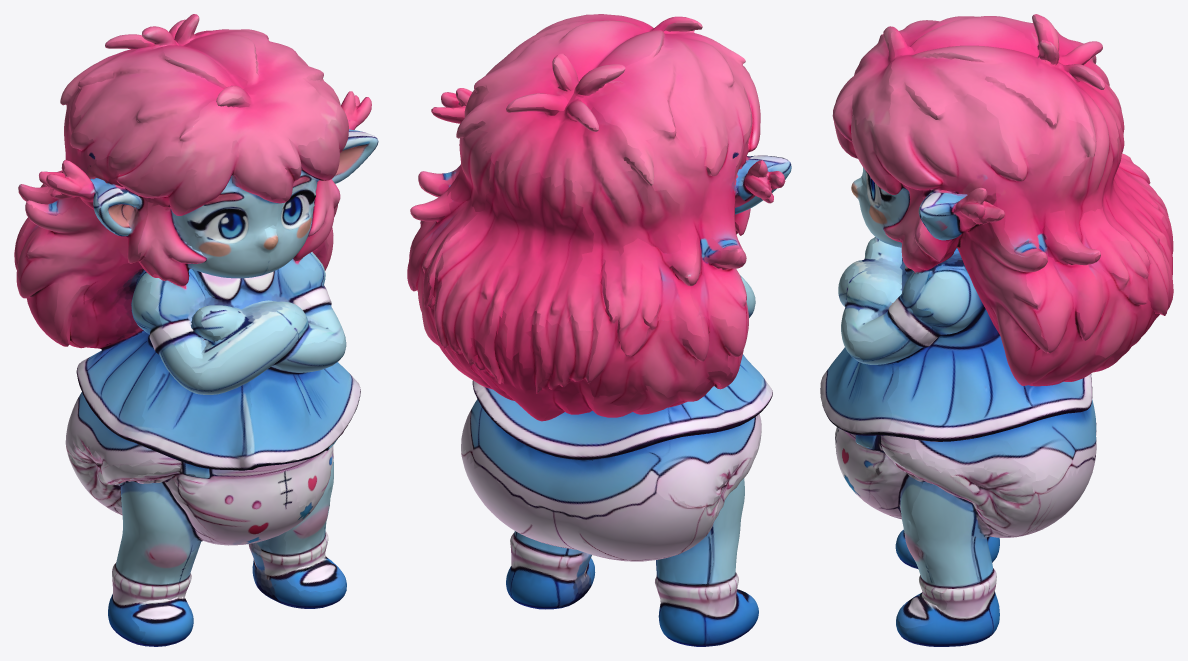
Rendered from alunradoll.glb.
3 renders of one model, left to right at view 1: azimuth 30°, elevation 25°; view 2: azimuth 150°, elevation 25°; view 3: azimuth 270°, elevation 25°, orthographic. The views are drawn at different scales.
Parts seen in each view (by area): view 1: temp_mesh.ply; view 2: temp_mesh.ply; view 3: temp_mesh.ply.
Boxes of the visible parts, x1=… form: temp_mesh.ply: x1=14, y1=14, x2=378, y2=646; temp_mesh.ply: x1=407, y1=14, x2=791, y2=646; temp_mesh.ply: x1=820, y1=14, x2=1173, y2=646.
Size of the model in its own units: 1.2 by 1.97 by 1.12.
Materials: 1 (1 with a texture image).
